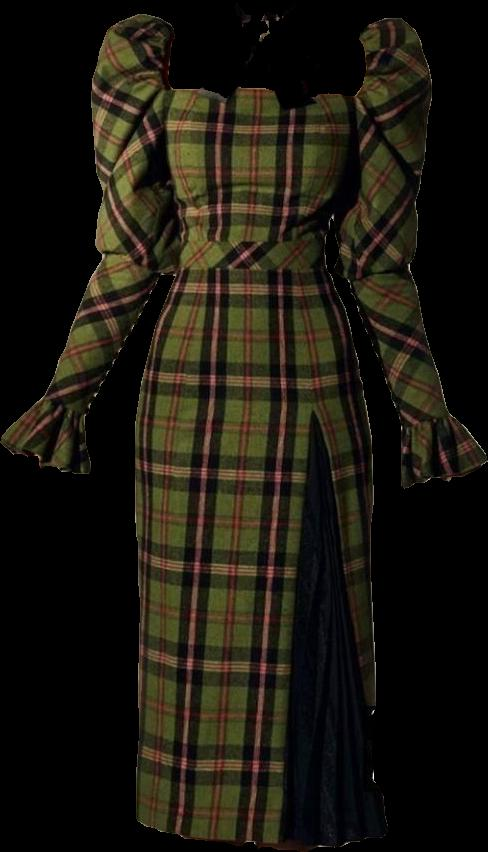Bodice: (163, 88, 356, 276)
Hemline: (274, 407, 378, 846), (133, 809, 385, 851)
Neckline: (173, 88, 355, 116), (181, 235, 327, 251)
Skirt: (135, 272, 428, 851)
Sleeve: (0, 14, 183, 473), (336, 18, 486, 488)
Sleeveline: (343, 29, 374, 168), (159, 26, 179, 168)
Waistline: (176, 265, 328, 282)
